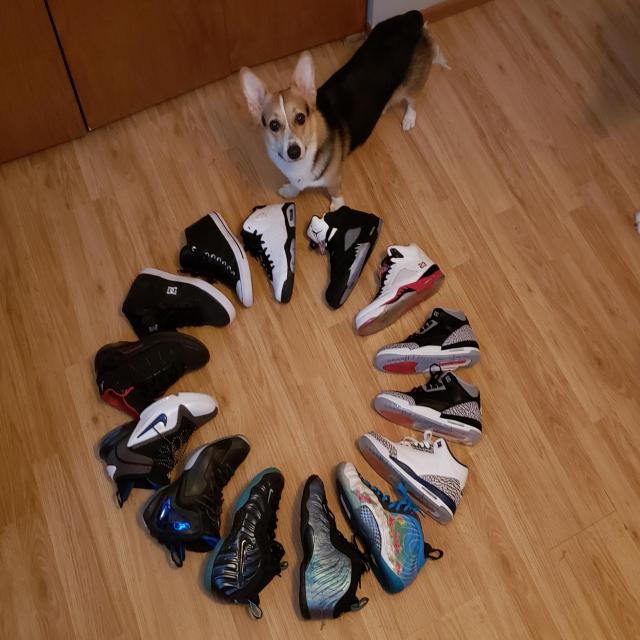shoe: (103, 394, 233, 500), (336, 456, 429, 603), (142, 436, 252, 560), (212, 464, 288, 622), (357, 427, 472, 524), (299, 468, 361, 622), (357, 237, 444, 338), (374, 370, 487, 442), (314, 180, 378, 306), (179, 200, 254, 307), (246, 174, 302, 310), (372, 306, 482, 373), (95, 336, 211, 398), (124, 273, 232, 335)
